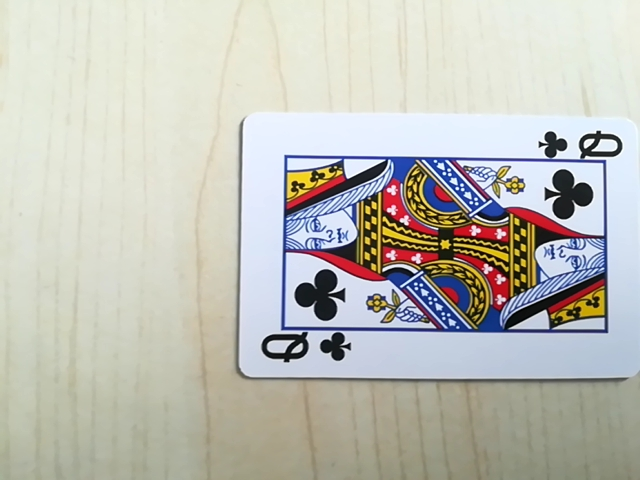mh q: (253, 327, 351, 373), (537, 125, 627, 162)
